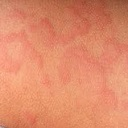Hives: (21, 21, 58, 66), (82, 61, 111, 97)
